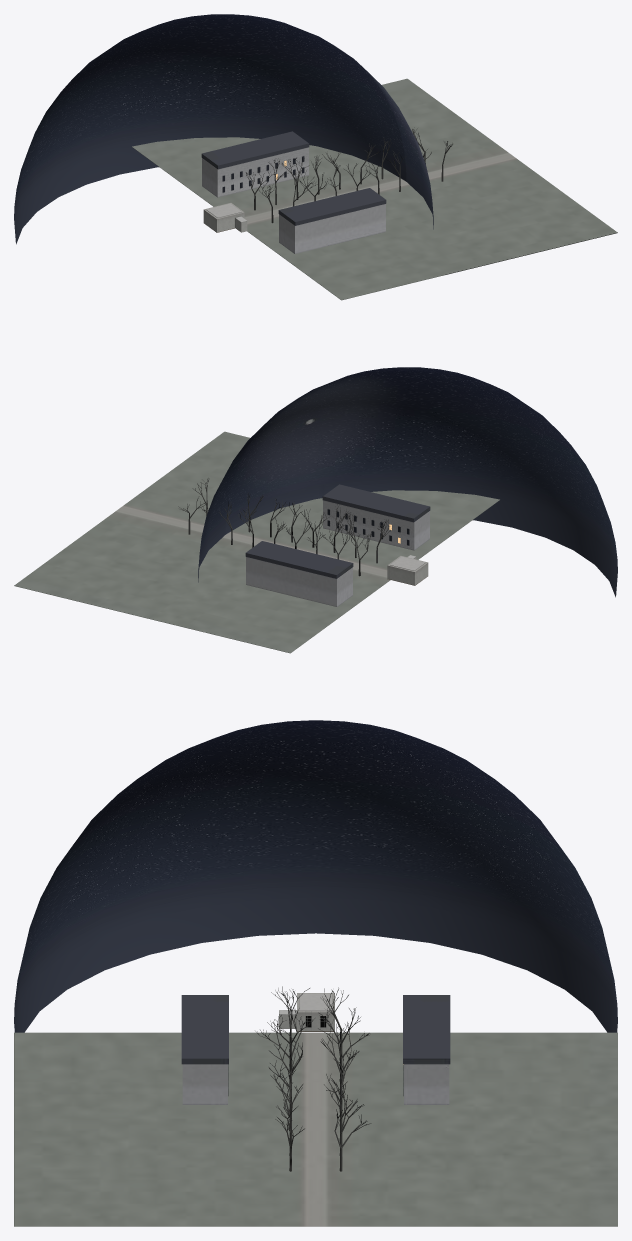
File: squires_library.gltf
The picture shows the model from 3 angles, top to bottom: view 1: azimuth 30°, elevation 25°; view 2: azimuth 150°, elevation 25°; view 3: azimuth 270°, elevation 25°; orthographic projection. The views are drawn at different scales.
Parts seen in each view (by area): view 1: SkyDome, far.garden, far.wings, far.roofs, far.avenue, MESH_Plaster; view 2: SkyDome, far.garden, far.wings, far.roofs, far.avenue, MESH_Plaster; view 3: far.garden, SkyDome, far.roofs, far.avenue, far.wings, MESH_Plaster, MESH_Ceiling.
Boxes of the visible parts, box(x1,y1,x2,y2) form: SkyDome: box(14, 14, 433, 244); far.garden: box(132, 78, 617, 300); far.wings: box(202, 147, 385, 253); far.roofs: box(201, 131, 386, 225); far.avenue: box(246, 127, 452, 223); MESH_Plaster: box(203, 203, 247, 232); SkyDome: box(198, 367, 617, 597); far.garden: box(14, 431, 499, 653); far.wings: box(246, 500, 429, 606); far.roofs: box(245, 484, 430, 578); far.avenue: box(178, 478, 390, 576); MESH_Plaster: box(387, 556, 428, 585); far.garden: box(14, 1032, 617, 1226); SkyDome: box(14, 720, 617, 1032); far.roofs: box(181, 995, 450, 1064); far.avenue: box(255, 986, 371, 1171); far.wings: box(182, 1064, 449, 1104); MESH_Plaster: box(279, 993, 334, 1031); MESH_Ceiling: box(279, 993, 332, 1014).
Size of the model in its own units: 155 by 68.35 by 120.
41 materials, 41 textured.
